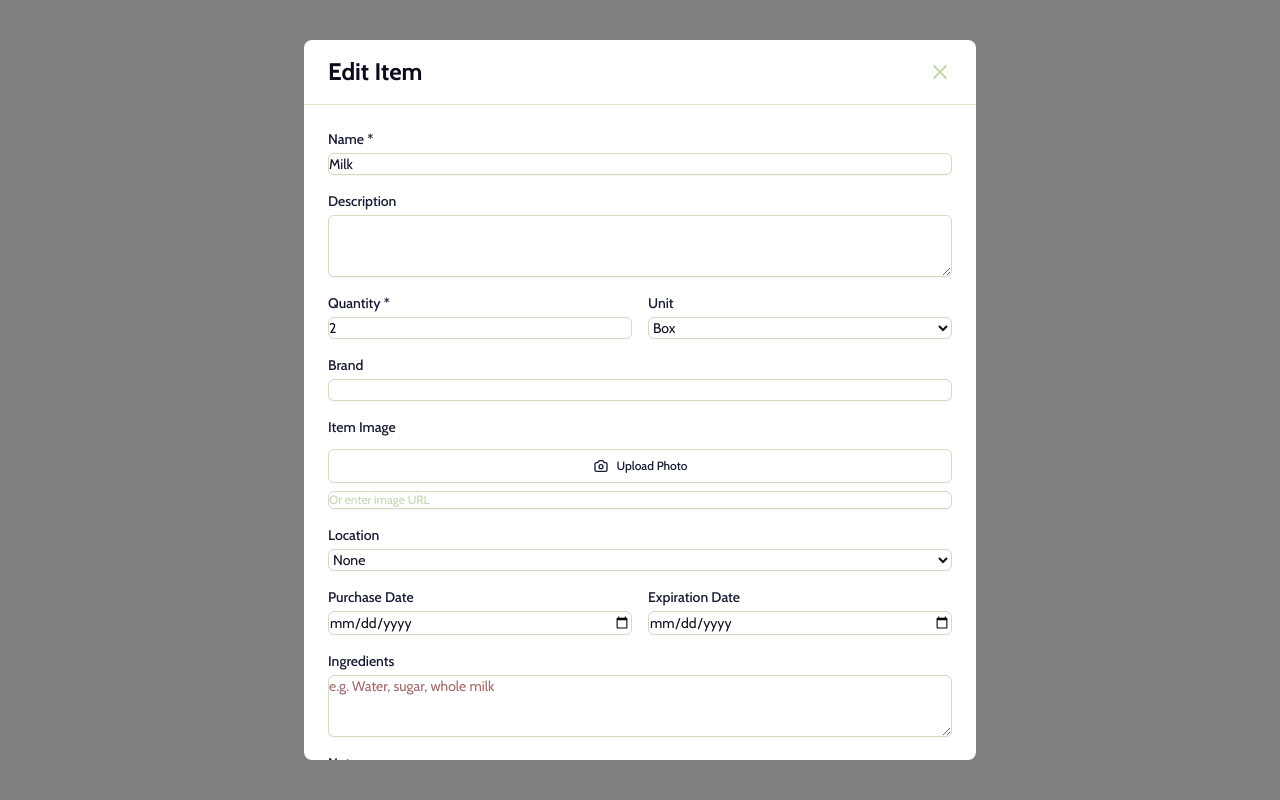
Scenario: EditItemModal › validates quantity must be greater than 0
The width and height of the screenshot is (1280, 800).
Replace the text in the number field labelled "Quantity *" with "0" at (480, 328), box [328, 317, 632, 339]
(page scrolled)
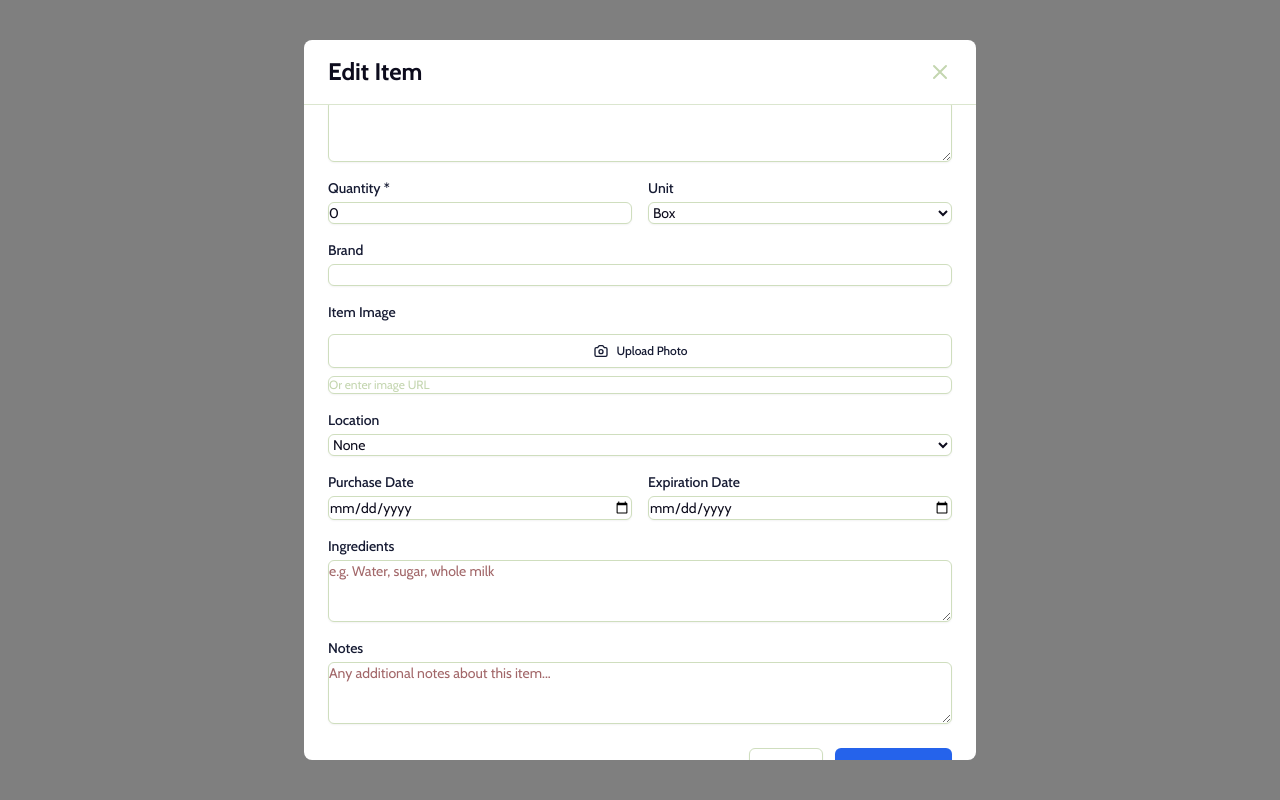
Submit the form labelled "Quantity *"
(page scrolled)
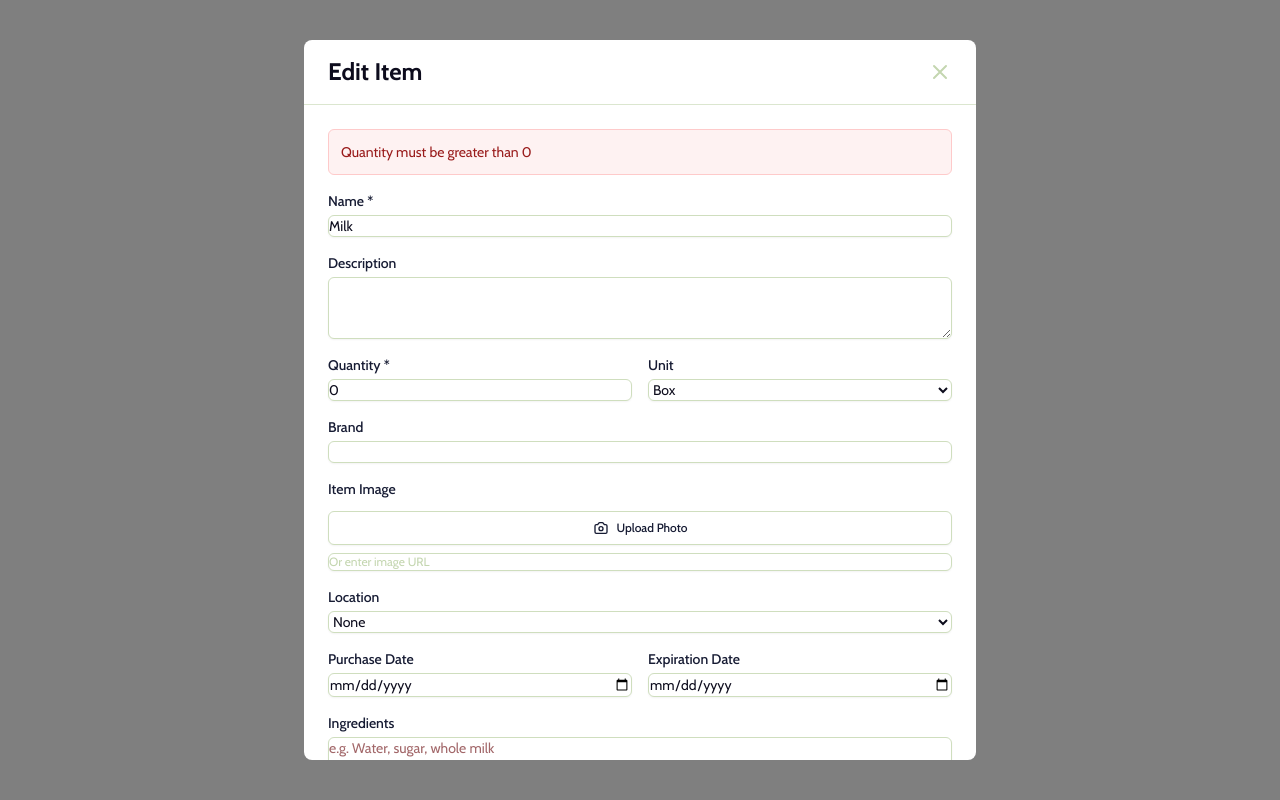
Check: the text "Quantity must be greater than 0" is shown, box [341, 143, 532, 161]
